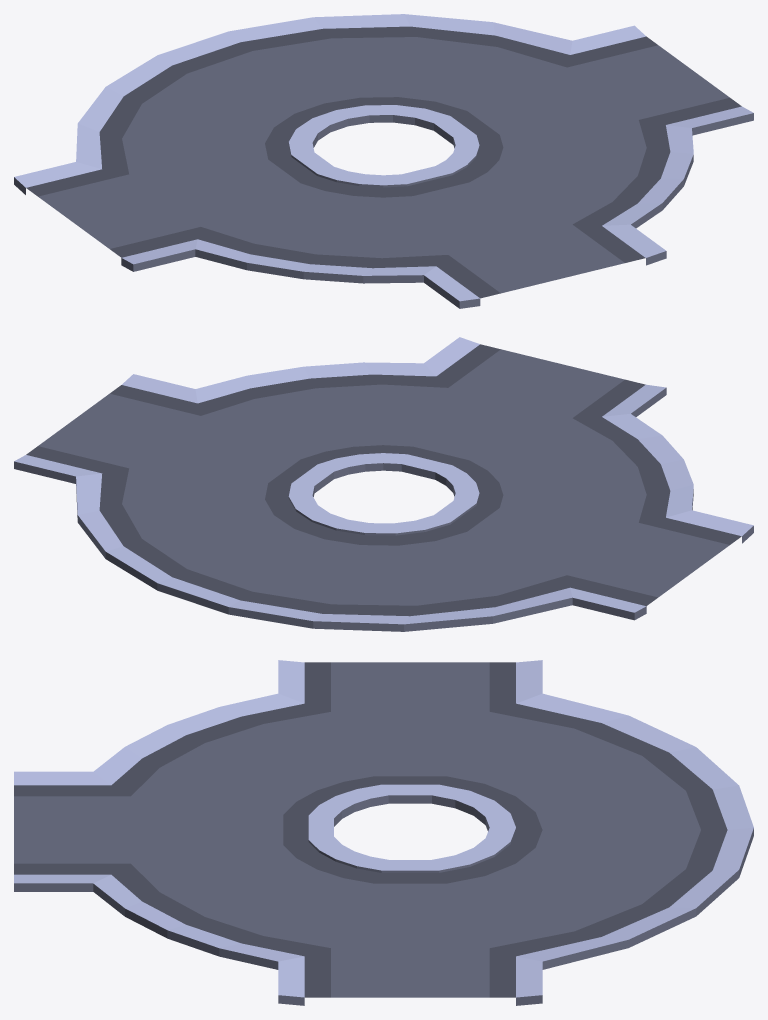
The model's file is road-roundabout-three.glb.
The picture shows the model from 3 angles, top to bottom: view 1: azimuth 30°, elevation 25°; view 2: azimuth 150°, elevation 25°; view 3: azimuth 270°, elevation 25°; orthographic projection. The views are drawn at different scales.
Parts seen in each view (by area): view 1: road-roundabout-three; view 2: road-roundabout-three; view 3: road-roundabout-three.
Boxes of the visible parts, <box> form: road-roundabout-three: <box>14,14,753,308</box>; road-roundabout-three: <box>14,337,753,631</box>; road-roundabout-three: <box>14,660,753,1005</box>.
Bounding box in the file's own units: 3 × 0.045 × 2.8.
1 material, 1 textured.
